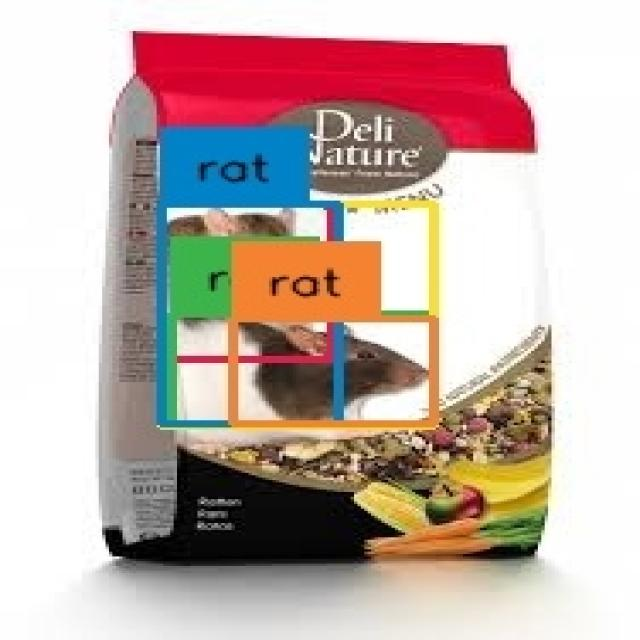rat: (162, 203, 434, 427), (160, 204, 337, 424), (172, 313, 434, 425), (162, 204, 332, 360), (233, 319, 434, 424)
